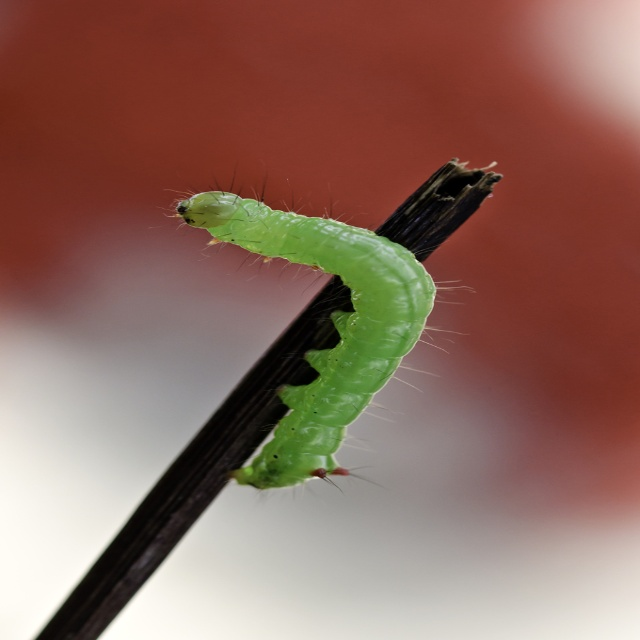Caterpillar: (182, 184, 475, 511)
